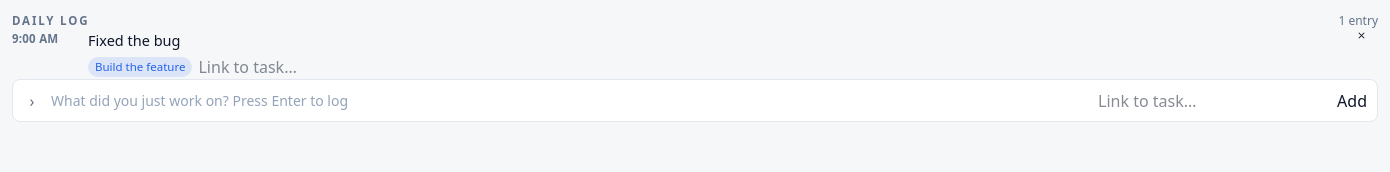
Test: DailyLogSection › log text editing › Escape then blur saves nothing and restores the text
The width and height of the screenshot is (1390, 172).
Step 1. Double-click the button "Fixed the bug" → (134, 40), box [88,30,180,50]
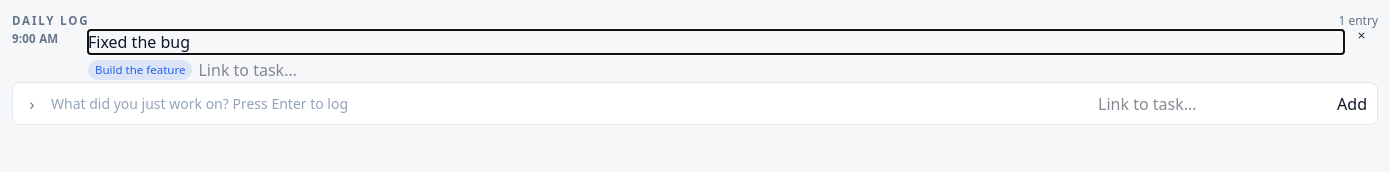
Step 2. Type "!" into the field named "Edit log entry" → (716, 42), box [88,30,1344,54]
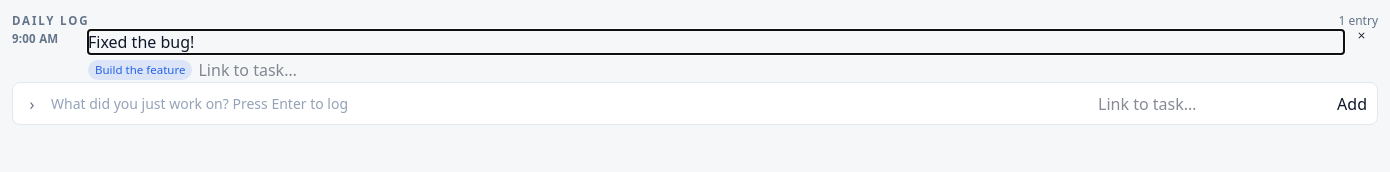
Step 3. Press Escape in the field named "Edit log entry", box [88,30,1344,54]
Step 4. Leave the field named "Edit log entry", box [88,30,1344,54]
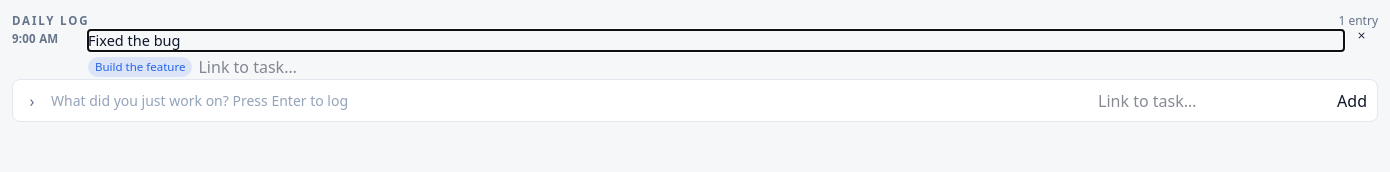
Result: the button "Fixed the bug" is shown at [88,30,180,50]
